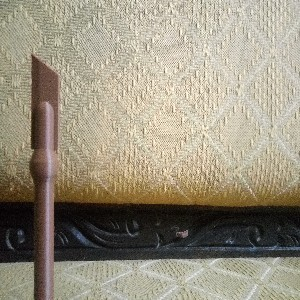cutter: (28, 53, 61, 300)
